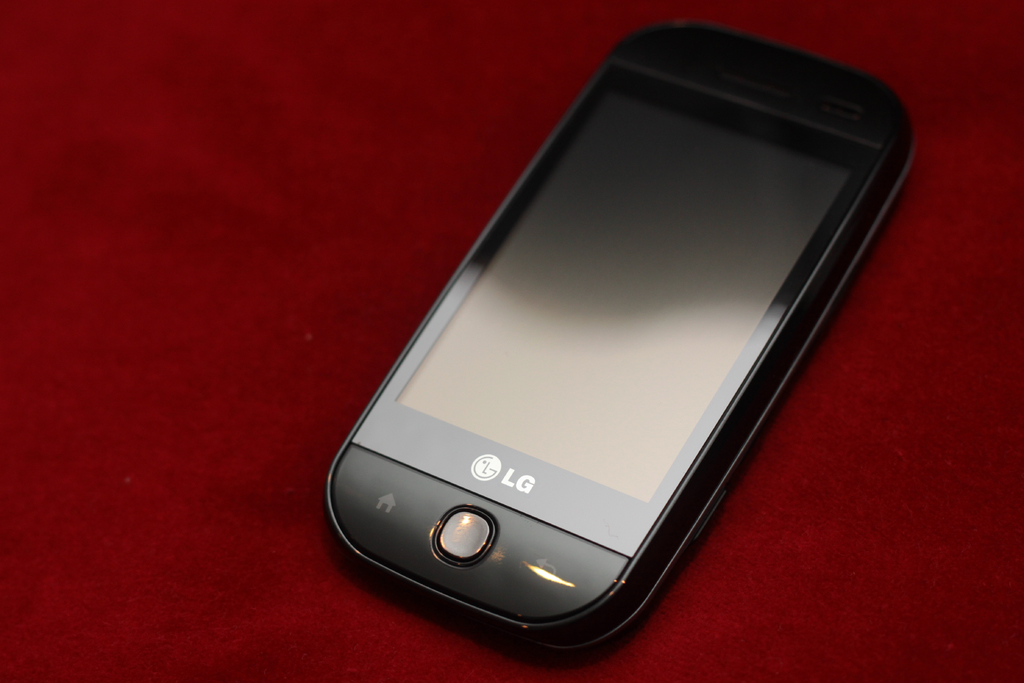mobile phone: (314, 12, 917, 668)
